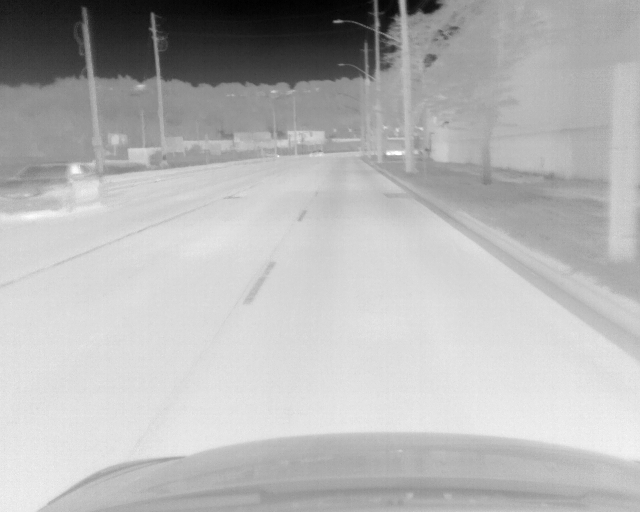car: (1, 162, 103, 213)
